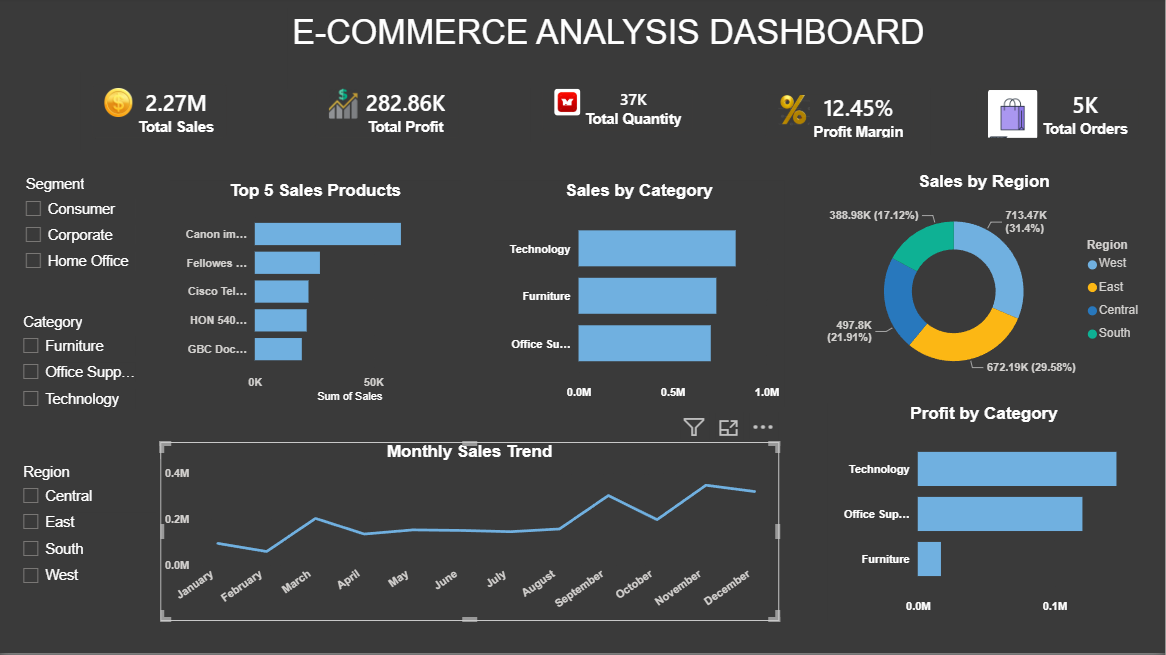

Layout of this report page (visuals, bound fields, positions):
{"tool":"powerbi","page":{"name":"Page 1","canvas":[1280,720],"ordinal":0},"visuals":[{"type":"cardVisual","fields":{"Data":["superstore_clean.Total Sales"]},"box":[85.1,78.2,182.5,94.7],"z":0},{"type":"cardVisual","fields":{"Data":["superstore_clean.Total Profit"]},"box":[332.1,83.7,192.1,94.7],"z":1000},{"type":"cardVisual","fields":{"Data":["superstore_clean.Total Quantity"]},"box":[568.1,86.4,200.3,86.4],"z":2000},{"type":"cardVisual","fields":{"Data":["superstore_clean.Profit Margin"]},"box":[832.9,90.6,199,87.8],"z":3000},{"type":"cardVisual","fields":{"Data":["superstore_clean.Total Orders"]},"box":[1055.2,83.7,214.1,89.2],"z":4000},{"type":"clusteredBarChart","title":"Sales by Category","fields":{"Category":["superstore_clean.Category"],"Y":["Sum(superstore_clean.Sales)"]},"box":[590.1,215.4,319,249],"z":5000},{"type":"clusteredBarChart","title":"Profit by Category","fields":{"Category":["superstore_clean.Category"],"Y":["Sum(superstore_clean.Profit)"]},"box":[933.1,450.1,319.7,249.7],"z":6000},{"type":"donutChart","title":"Sales by Region","fields":{"Category":["superstore_clean.Region"],"Y":["Sum(superstore_clean.Sales)"]},"box":[933.1,193.5,319.7,249.7],"z":7000},{"type":"lineChart","title":"Monthly Sales Trend","fields":{"Y":["Sum(superstore_clean.Sales)"],"Category":["superstore_clean.Order_Date.Variation.Date Hierarchy.Month"]},"box":[205.8,499.5,679.2,196.2],"z":8000},{"type":"barChart","title":"Top 10 Sales Products","fields":{"Category":["superstore_clean.Product Name"],"Y":["Sum(superstore_clean.Sales)"]},"box":[218.2,223.7,319,249],"z":9000},{"type":"slicer","fields":{"Values":["superstore_clean.Region"]},"box":[13.7,507.7,163.3,188],"z":10000},{"type":"slicer","fields":{"Values":["superstore_clean.Category"]},"box":[13.7,343.1,141.3,137.2],"z":11000},{"type":"slicer","fields":{"Values":["superstore_clean.Segment"]},"box":[16.5,192.1,138.6,134.5],"z":12000},{"type":"textbox","box":[317,12.3,723.2,87.8],"z":12001}]}

Visuals, with their boxes in screenshot pixels (x1, y1, x2, y2), scaled from the page's 1280x720 canvas onto the 1166x655 screenshot:
cardVisual - superstore_clean.Total Sales: (x1=78, y1=71, x2=244, y2=157)
cardVisual - superstore_clean.Total Profit: (x1=303, y1=76, x2=478, y2=162)
cardVisual - superstore_clean.Total Quantity: (x1=518, y1=79, x2=700, y2=157)
cardVisual - superstore_clean.Profit Margin: (x1=759, y1=82, x2=940, y2=162)
cardVisual - superstore_clean.Total Orders: (x1=961, y1=76, x2=1156, y2=157)
"Sales by Category" clusteredBarChart: (x1=538, y1=196, x2=828, y2=422)
"Profit by Category" clusteredBarChart: (x1=850, y1=409, x2=1141, y2=637)
"Sales by Region" donutChart: (x1=850, y1=176, x2=1141, y2=403)
"Monthly Sales Trend" lineChart: (x1=187, y1=454, x2=806, y2=633)
"Top 10 Sales Products" barChart: (x1=199, y1=204, x2=489, y2=430)
slicer - superstore_clean.Region: (x1=12, y1=462, x2=161, y2=633)
slicer - superstore_clean.Category: (x1=12, y1=312, x2=141, y2=437)
slicer - superstore_clean.Segment: (x1=15, y1=175, x2=141, y2=297)
textbox: (x1=289, y1=11, x2=948, y2=91)
